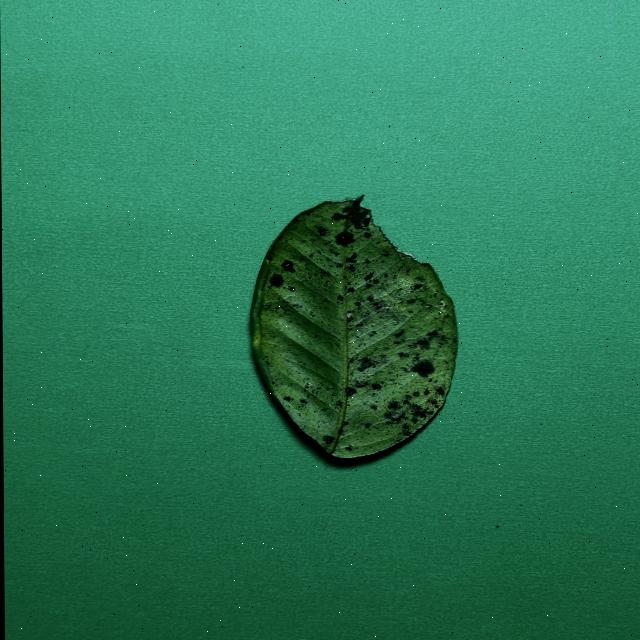sooty_mold: (251, 198, 457, 458)
